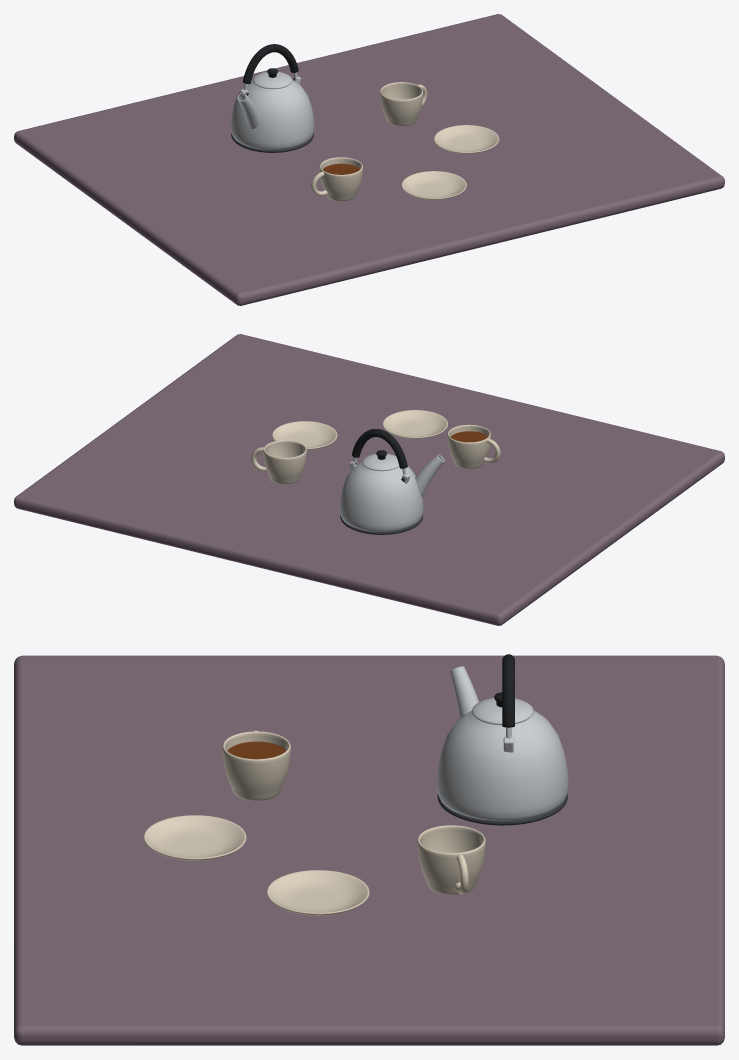
File: second_cup_tableau.glb
3 views of the same model, one above another, from view 1: azimuth 30°, elevation 25°; view 2: azimuth 150°, elevation 25°; view 3: azimuth 270°, elevation 25° (orthographic). The views are drawn at different scales.
Visible parts, largest first — view 1: Tabletop, Kettle_Body, FarCup_Body, NearPlate, FarPlate, NearCup_Body, Kettle_Handle_Grip, Kettle_Lid, Kettle_Spout; view 2: Tabletop, Kettle_Body, FarCup_Body, NearPlate, FarPlate, NearCup_Body, Kettle_Handle_Grip, Kettle_Spout, Kettle_Lid; view 3: Tabletop, Kettle_Body, NearPlate, FarPlate, FarCup_Body, NearCup_Body, Kettle_Lid, Kettle_Handle_Grip, Kettle_Spout, NearCup_Tea, Kettle_Base.
Boxes of the visible parts, box(x1,y1,x2,y2) form: Tabletop: box(14, 14, 724, 305); Kettle_Body: box(230, 80, 314, 149); FarCup_Body: box(380, 82, 423, 126); NearPlate: box(401, 171, 466, 199); FarPlate: box(434, 125, 499, 153); NearCup_Body: box(319, 157, 362, 201); Kettle_Handle_Grip: box(242, 44, 298, 83); Kettle_Lid: box(253, 71, 292, 89); Kettle_Spout: box(237, 93, 260, 128); Tabletop: box(14, 334, 724, 625); Kettle_Body: box(340, 462, 423, 531); FarCup_Body: box(263, 440, 306, 484); NearPlate: box(382, 410, 447, 438); FarPlate: box(272, 421, 337, 450); NearCup_Body: box(447, 424, 490, 468); Kettle_Handle_Grip: box(352, 429, 407, 468); Kettle_Spout: box(415, 454, 444, 496); Kettle_Lid: box(362, 453, 399, 471); Tabletop: box(14, 655, 724, 1045); Kettle_Body: box(437, 710, 568, 820); NearPlate: box(143, 815, 246, 860); FarPlate: box(266, 870, 369, 915); FarCup_Body: box(417, 825, 485, 894); NearCup_Body: box(222, 731, 290, 800); Kettle_Lid: box(472, 698, 533, 725); Kettle_Handle_Grip: box(502, 654, 514, 727); Kettle_Spout: box(450, 666, 478, 717); NearCup_Tea: box(227, 741, 285, 759); Kettle_Base: box(437, 794, 567, 825).
Size of the model in its own units: 1.3 by 0.2599 by 1.04.
